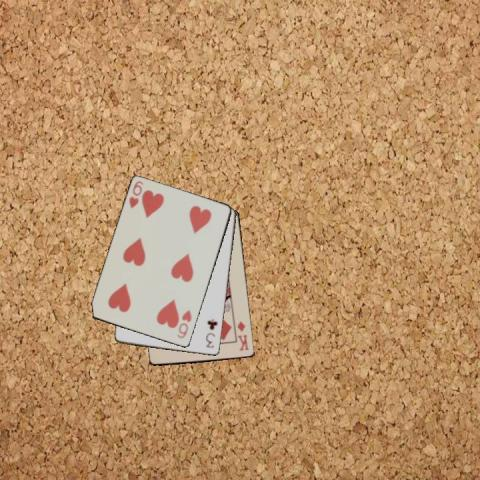3c: (203, 316, 219, 349)
6h: (174, 307, 193, 340), (126, 178, 145, 210)
Kd: (234, 319, 251, 352)
